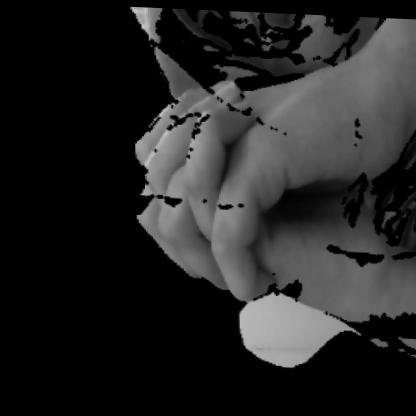prayer: (117, 51, 402, 336)
